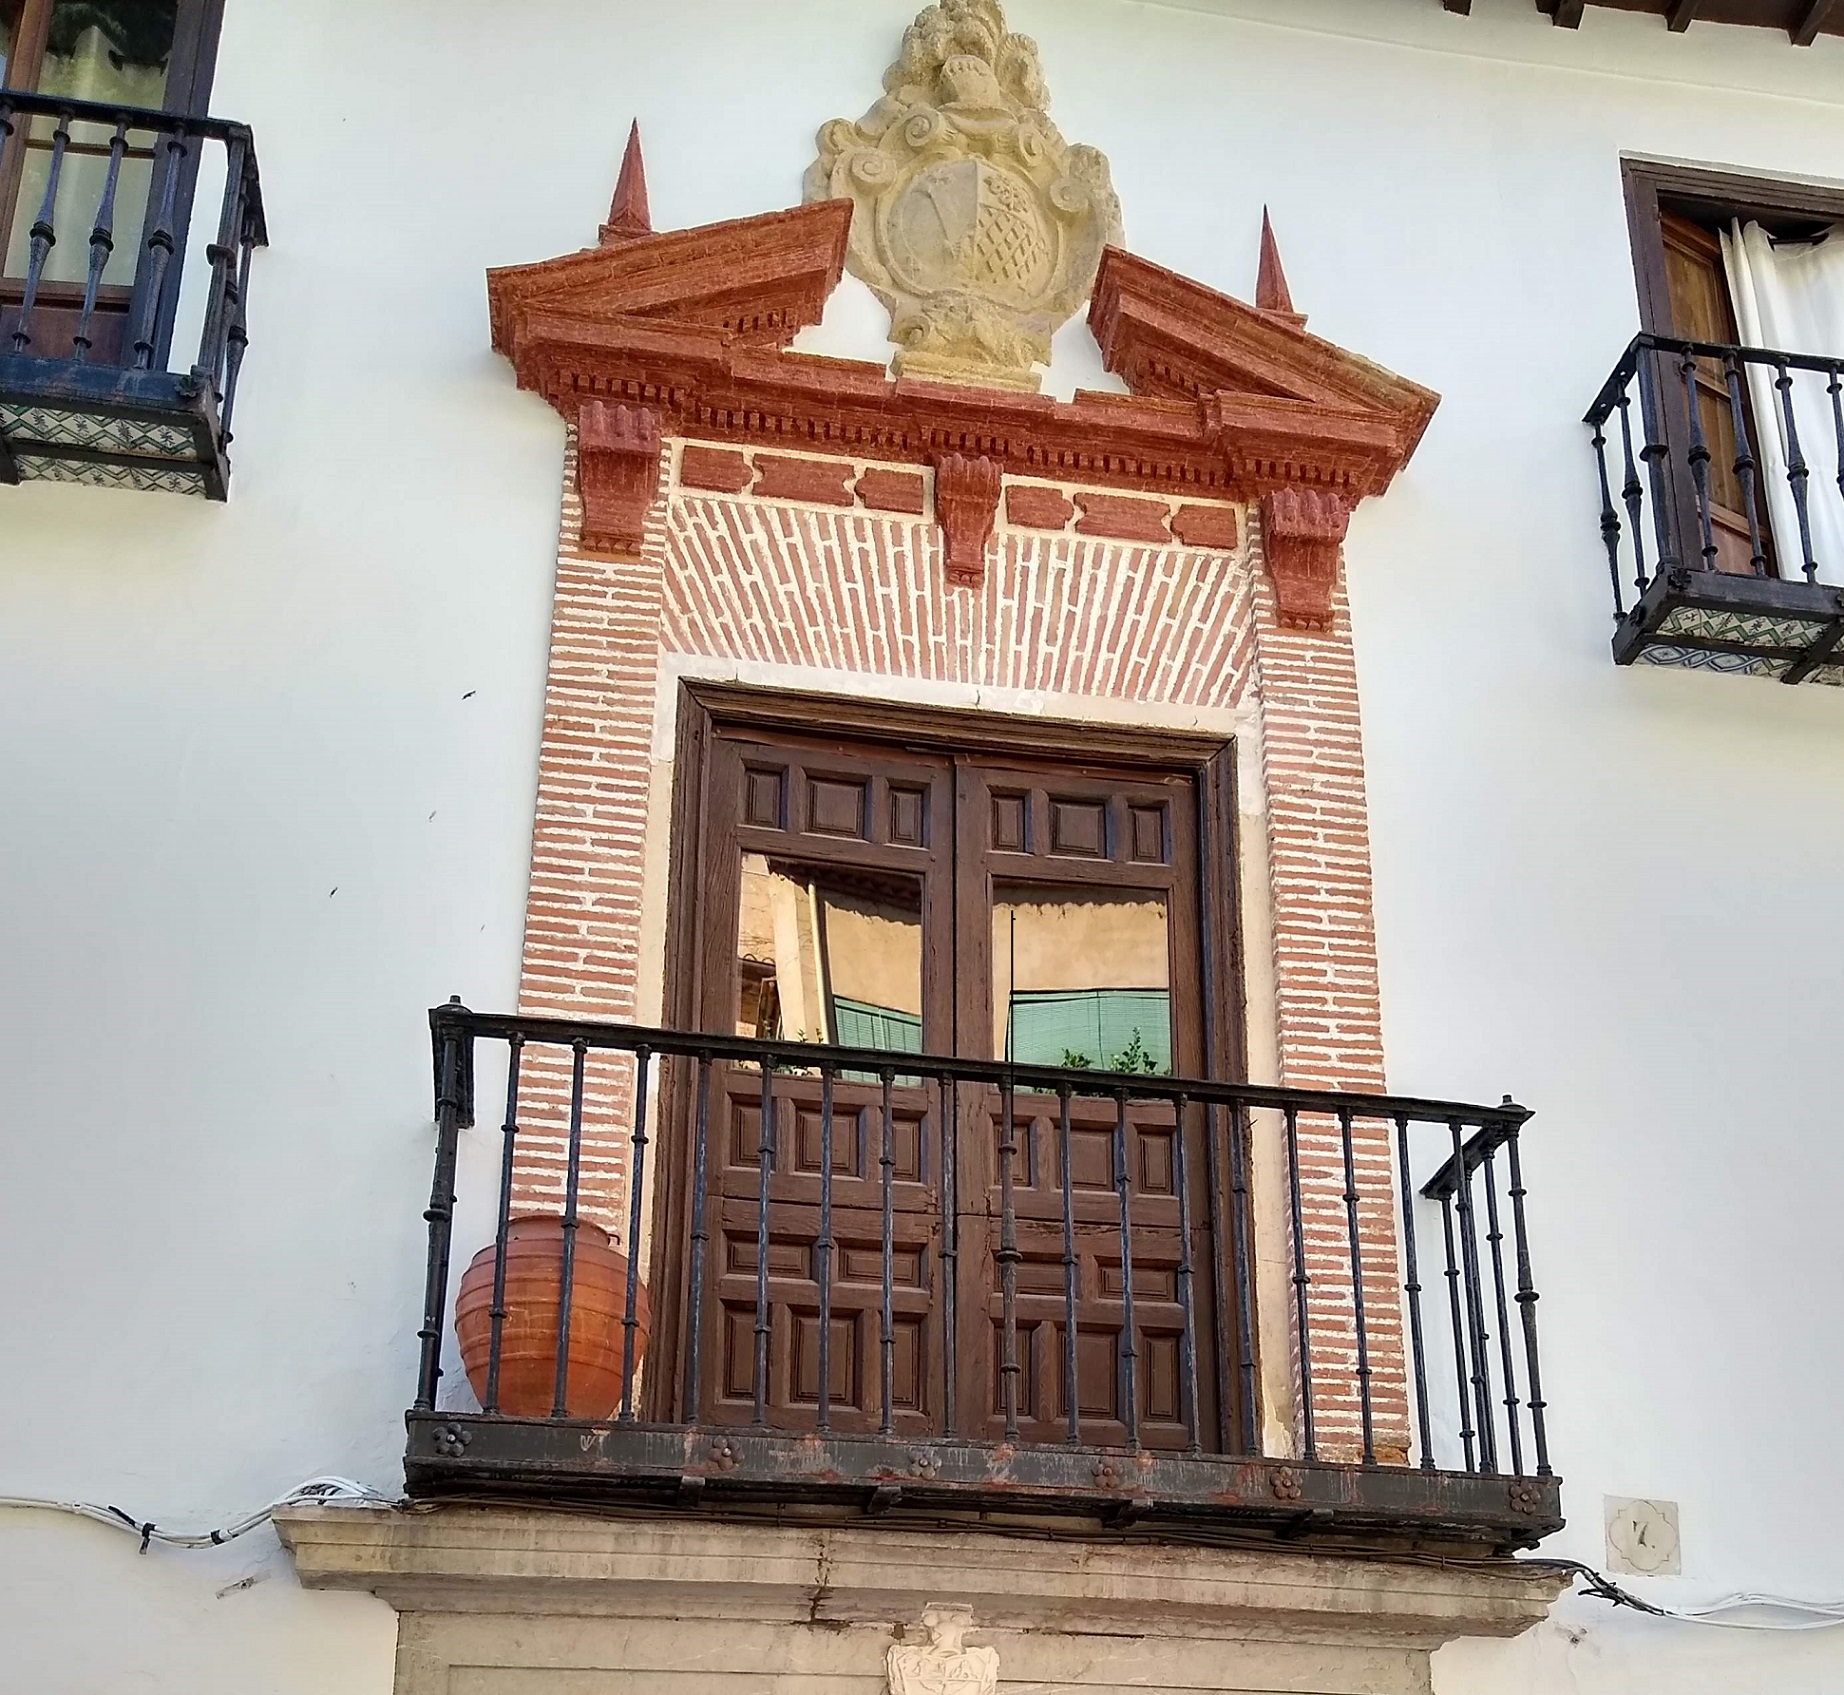fronton-partido: (474, 186, 1454, 485)
vano-adintelado: (626, 623, 1299, 1481)
